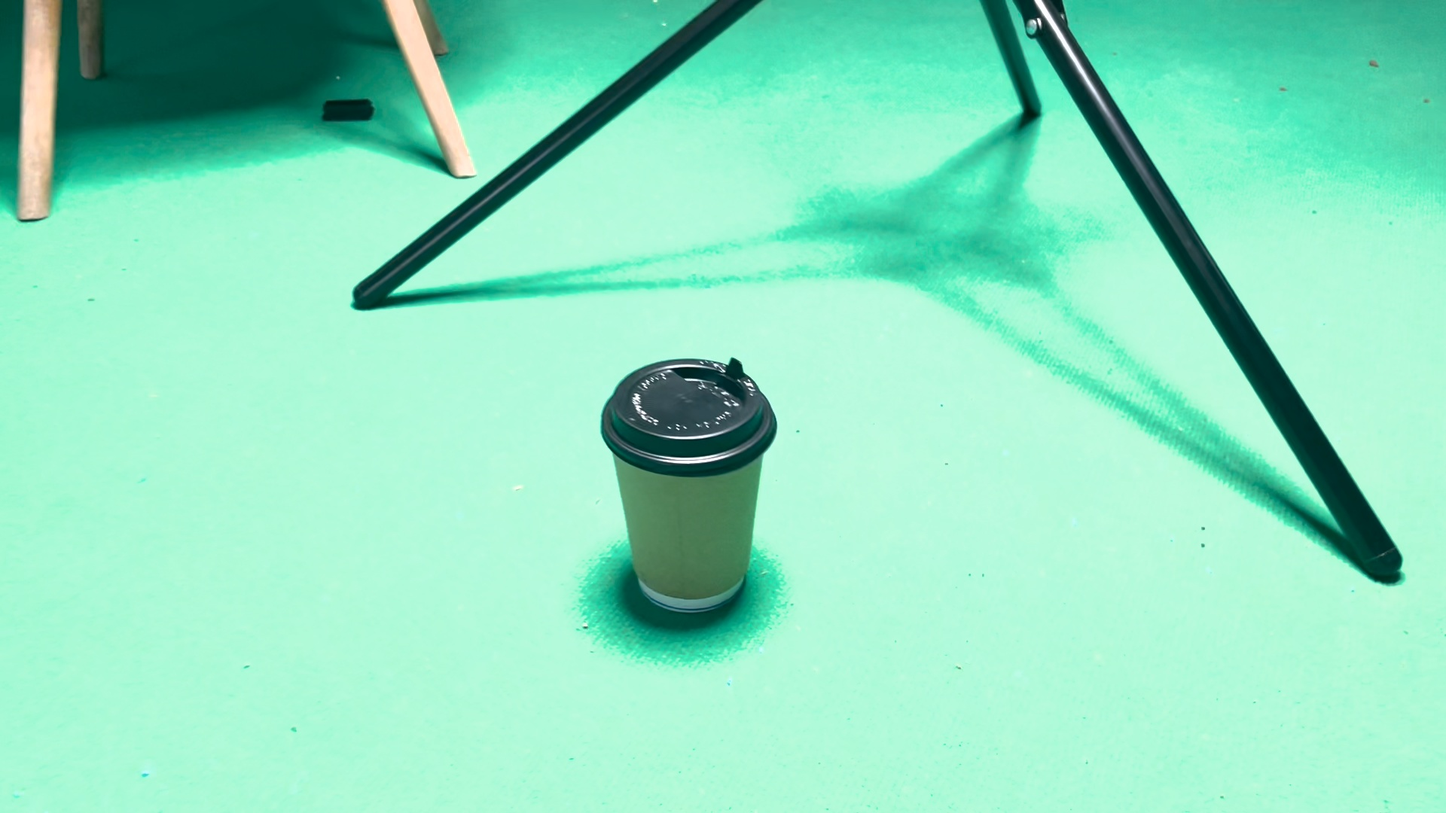cup: (715, 470, 821, 611)
